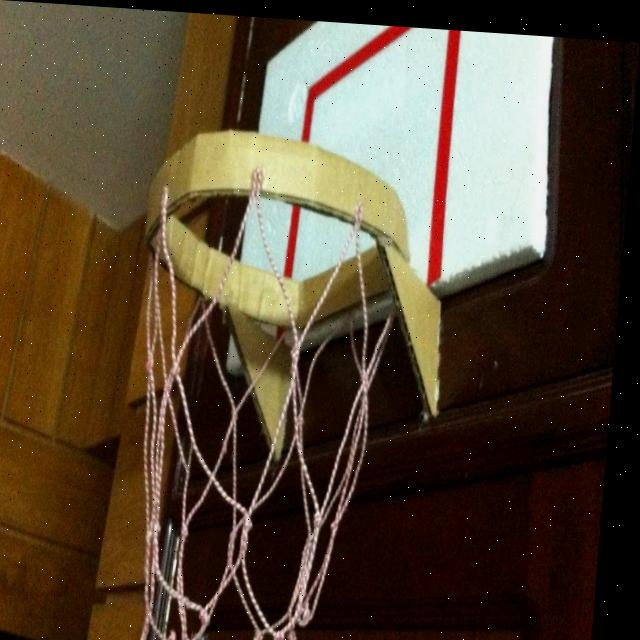hoop: (113, 128, 420, 640)
